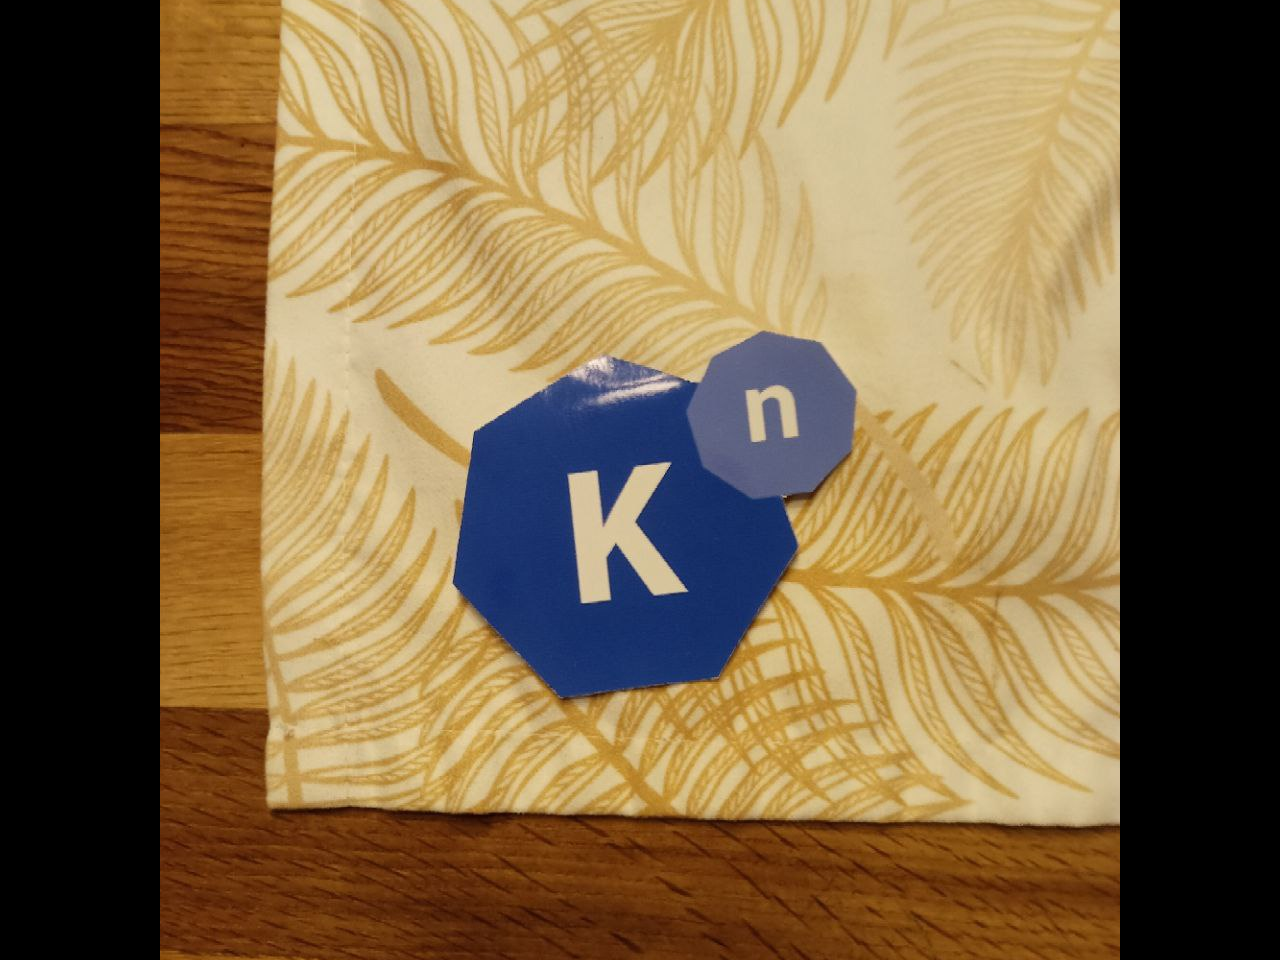knative: (447, 331, 858, 704)
